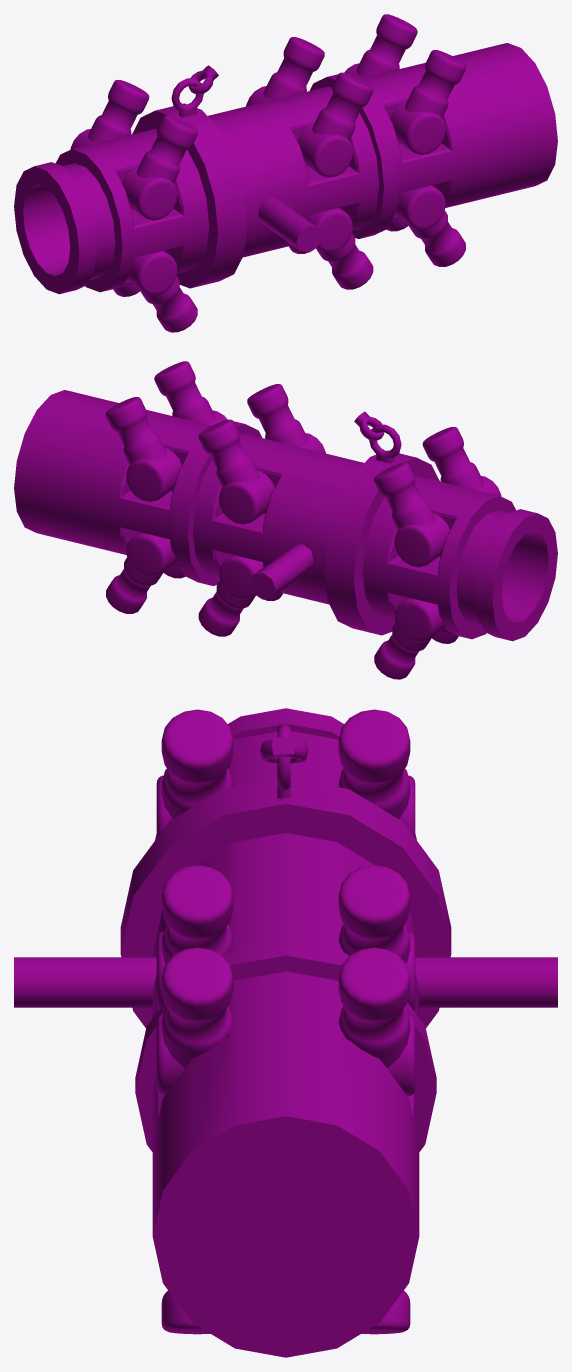
The model's file is Weapon_Gun_001.FBX.
3 views of the same model, one above another, from view 1: azimuth 30°, elevation 25°; view 2: azimuth 150°, elevation 25°; view 3: azimuth 270°, elevation 25° (orthographic). The views are drawn at different scales.
Visible parts, largest first — view 1: Weapon_Gun_001; view 2: Weapon_Gun_001; view 3: Weapon_Gun_001.
Boxes of the visible parts, <box> form: Weapon_Gun_001: <box>14,14,557,332</box>; Weapon_Gun_001: <box>14,361,557,679</box>; Weapon_Gun_001: <box>14,708,557,1357</box>.
Size of the model in its own units: 453 by 210 by 248.
